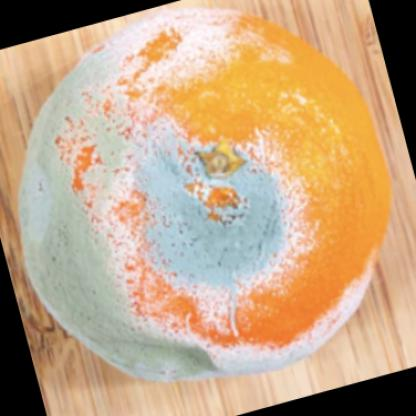rotten_orange: (13, 2, 393, 380)
